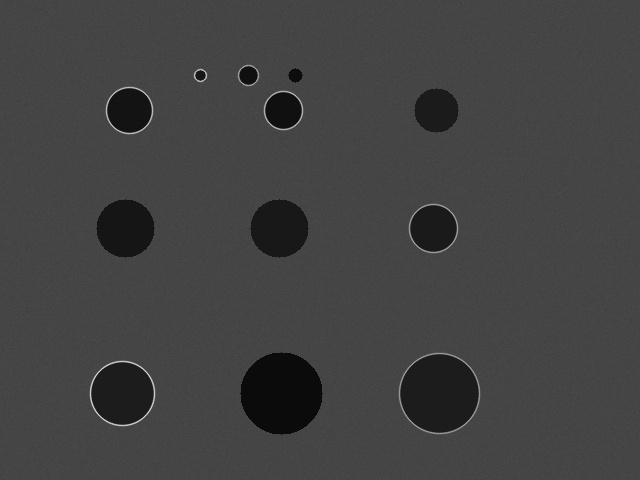hole: (240, 352, 322, 434), (399, 353, 479, 433), (90, 361, 154, 425), (96, 199, 154, 257), (250, 199, 308, 257), (409, 204, 457, 252), (106, 87, 152, 133), (414, 88, 458, 132), (264, 91, 302, 129), (238, 65, 258, 85), (288, 68, 302, 82), (194, 69, 206, 81)
